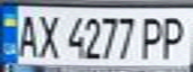2: (81, 12, 103, 61)
4: (63, 11, 84, 60)
7: (115, 12, 139, 61), (100, 13, 121, 60)
A: (12, 10, 42, 58)
P: (136, 12, 169, 61), (157, 12, 190, 61)
X: (33, 10, 63, 60)
